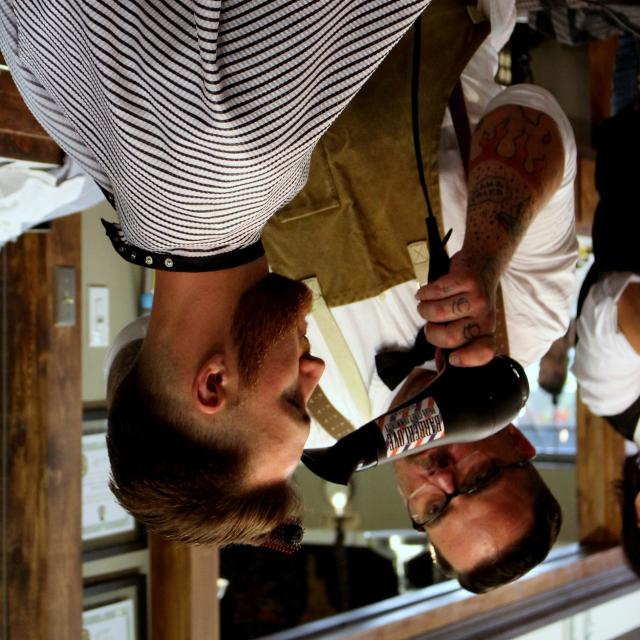dryer: (300, 219, 528, 489)
